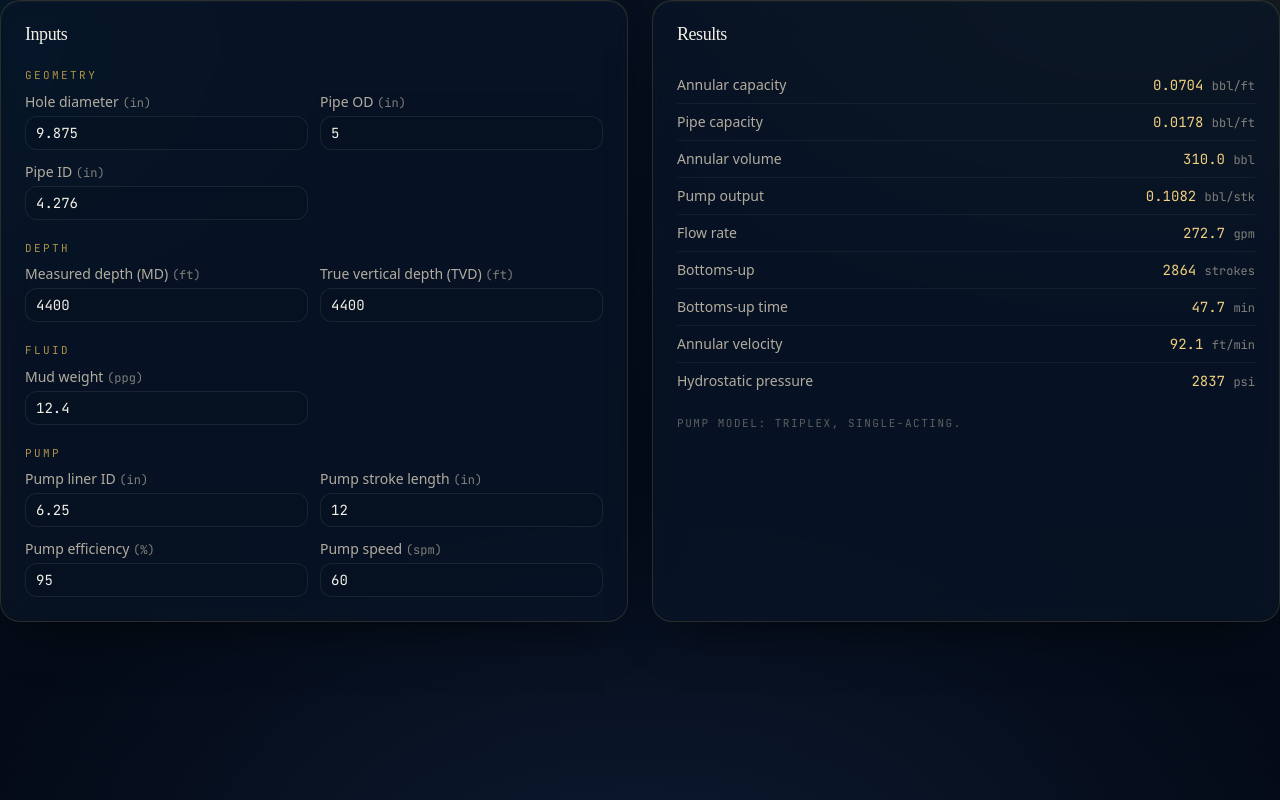
Test case: HydraulicsPanel › surfaces a soft out-of-range warning for an over-max input
Replace the text in the number field labelled "Pump speed (spm)" with "500". click: (462, 580)
box: [320,563,603,597]
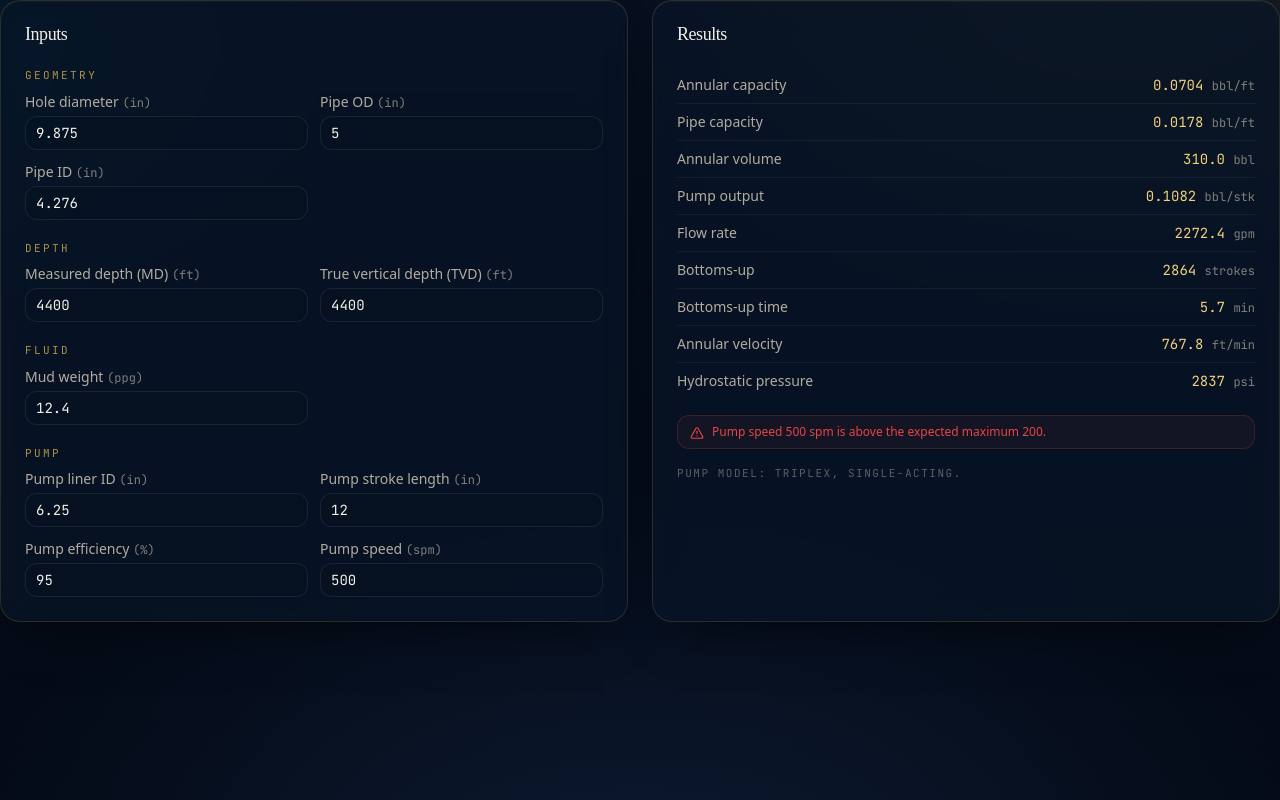
Now the text "Pump speed 500 spm is above the expected maximum 200." is shown, box [712,424,1046,440]
